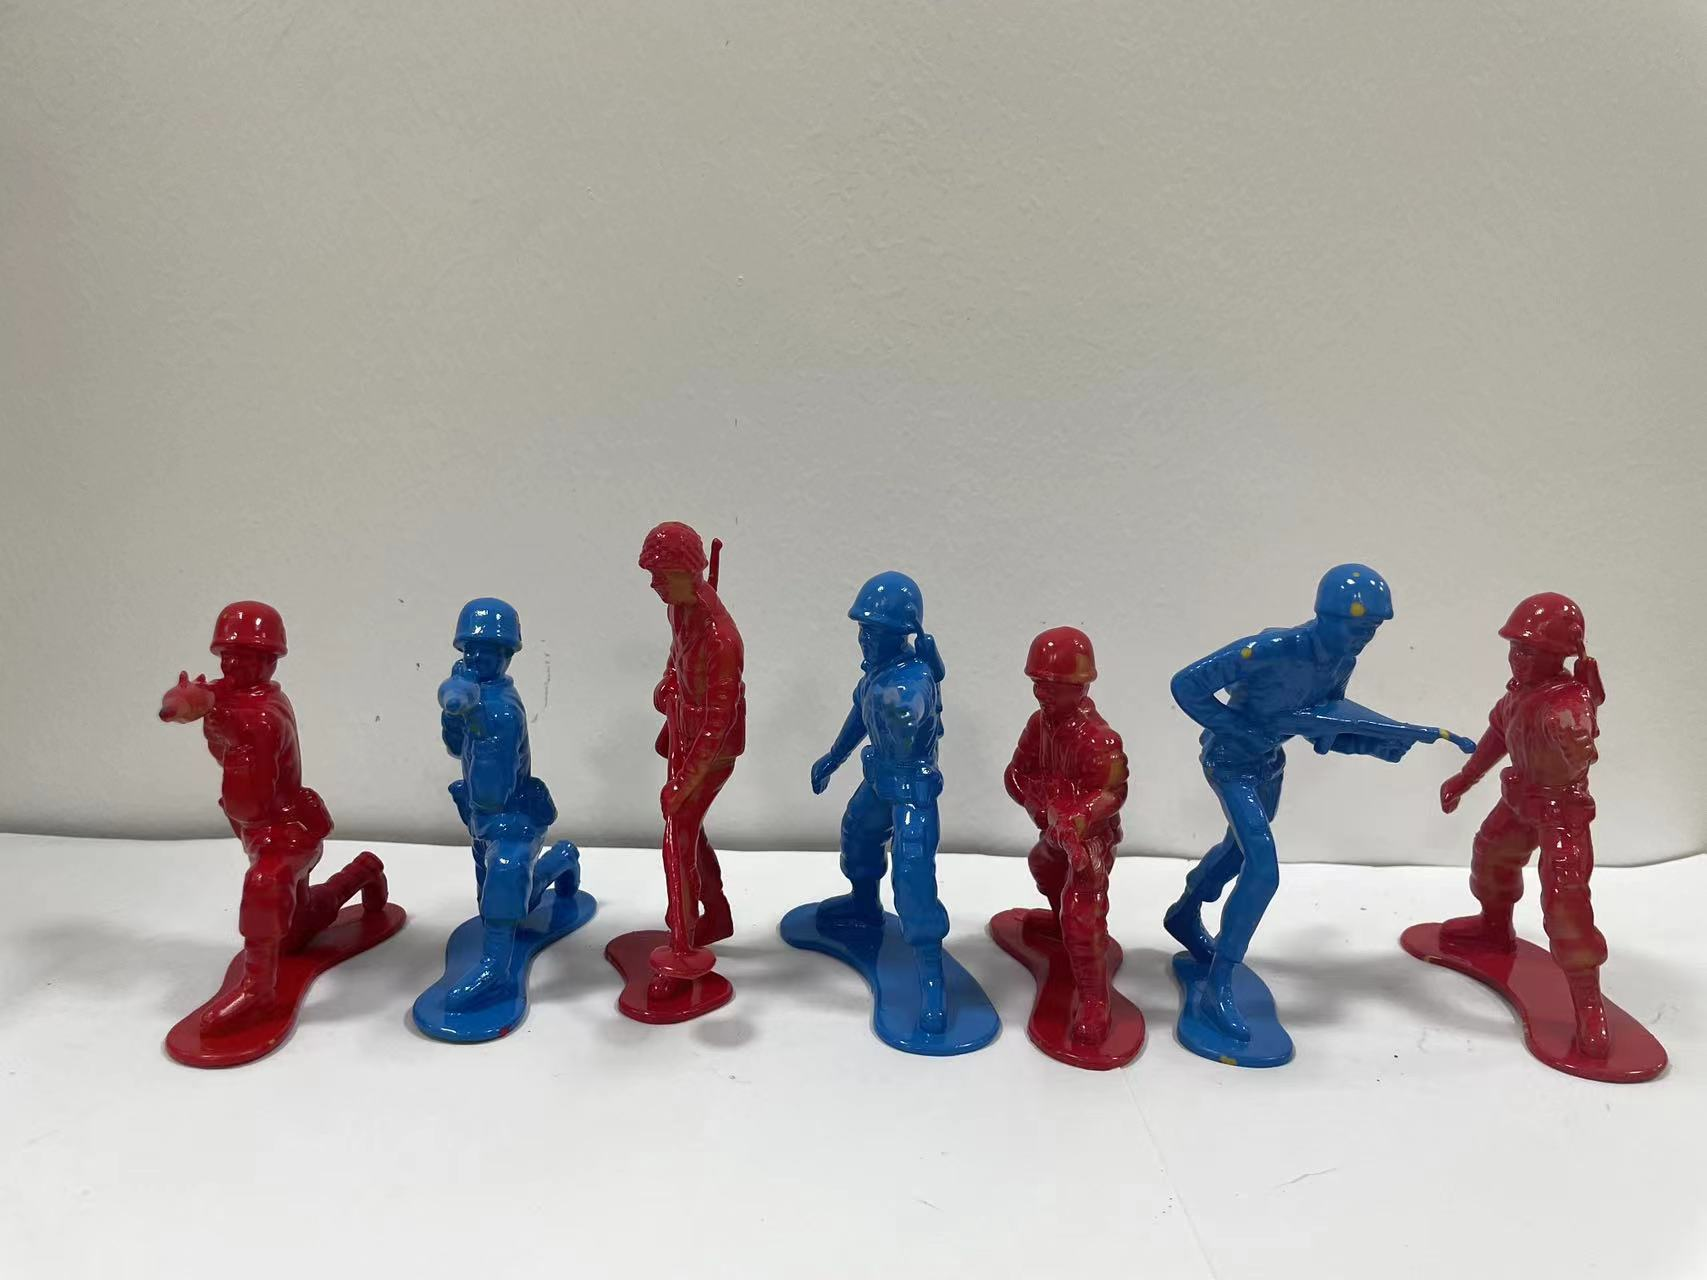blue: (1152, 469, 1431, 1125), (790, 541, 1000, 1101), (409, 558, 620, 1082)
red: (91, 516, 403, 1094), (1419, 558, 1680, 1137), (591, 469, 790, 1119), (985, 602, 1169, 1131)
